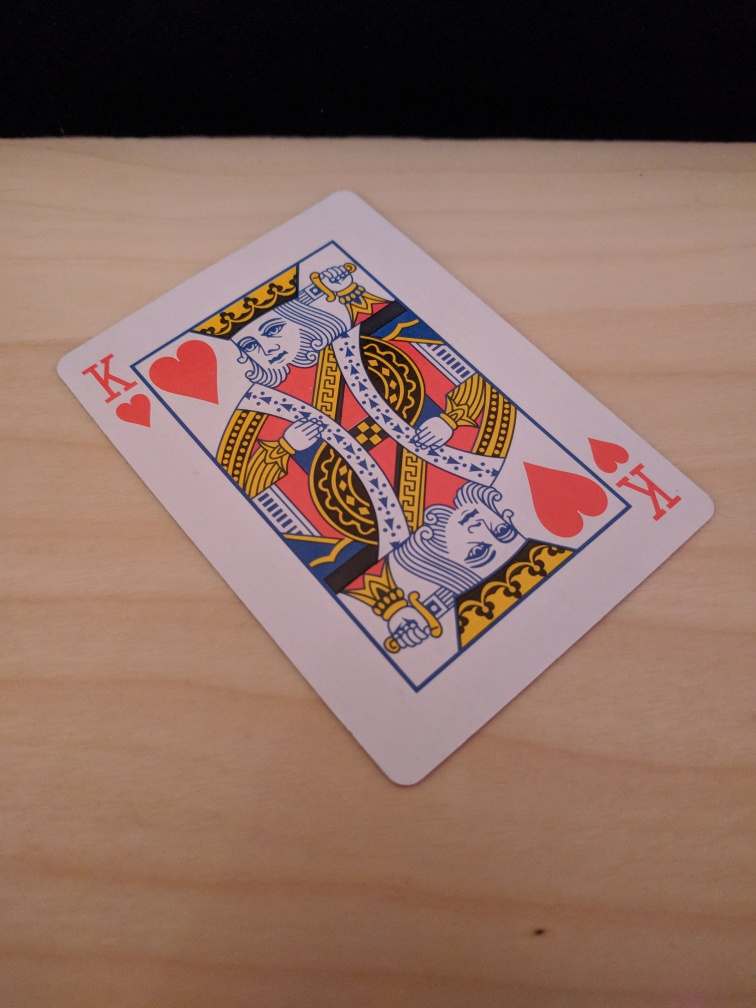king: (56, 188, 717, 789)
